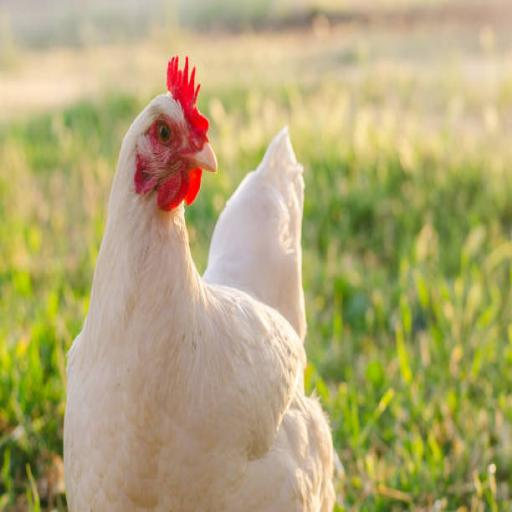healthy: (114, 39, 236, 223)
